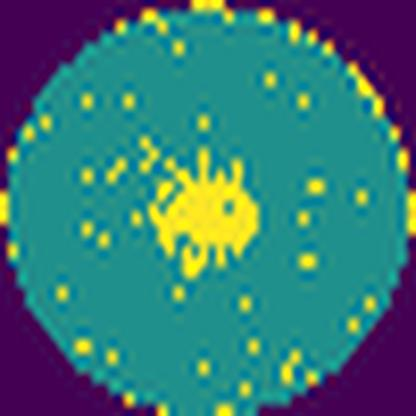Center: (150, 146, 260, 280)
